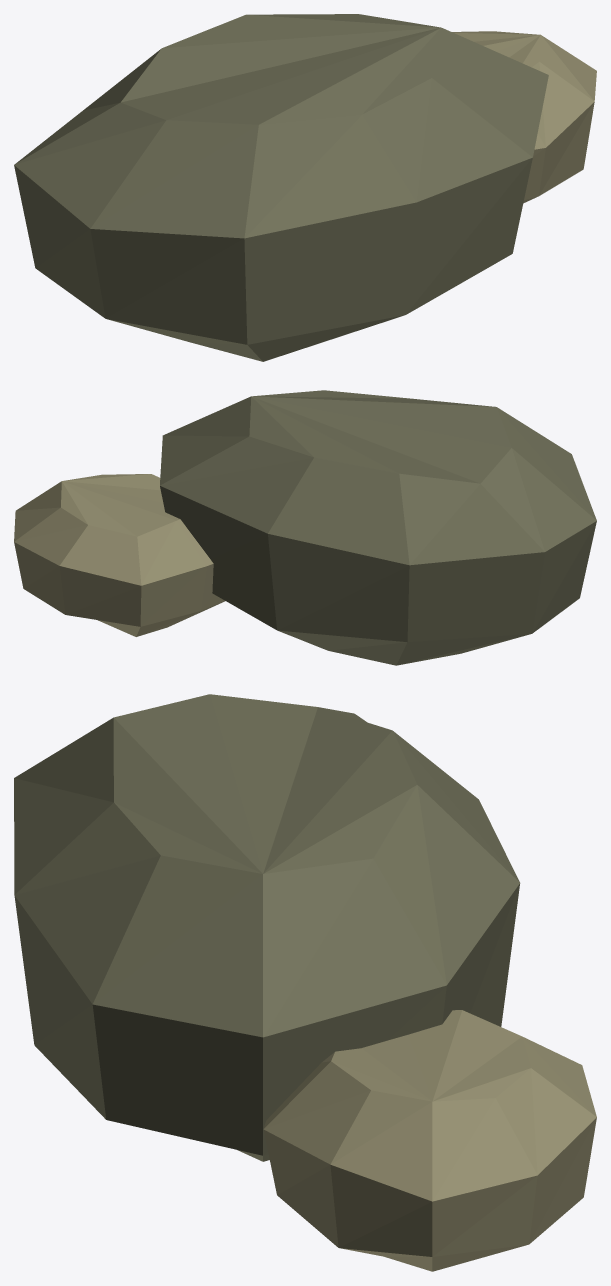
File: bed_rocks_0.obj
3 views of the same model, one above another, from view 1: azimuth 30°, elevation 25°; view 2: azimuth 150°, elevation 25°; view 3: azimuth 270°, elevation 25° (orthographic). The views are drawn at different scales.
Parts seen in each view (by area): view 1: bed_rocks_0; view 2: bed_rocks_0; view 3: bed_rocks_0.
Boxes of the visible parts, x1,y1,x2,y2 form: bed_rocks_0: (14,14,596,361); bed_rocks_0: (14,390,596,665); bed_rocks_0: (14,694,596,1271).
Bounding box in the file's own units: 4.06 × 1.58 × 2.58.
